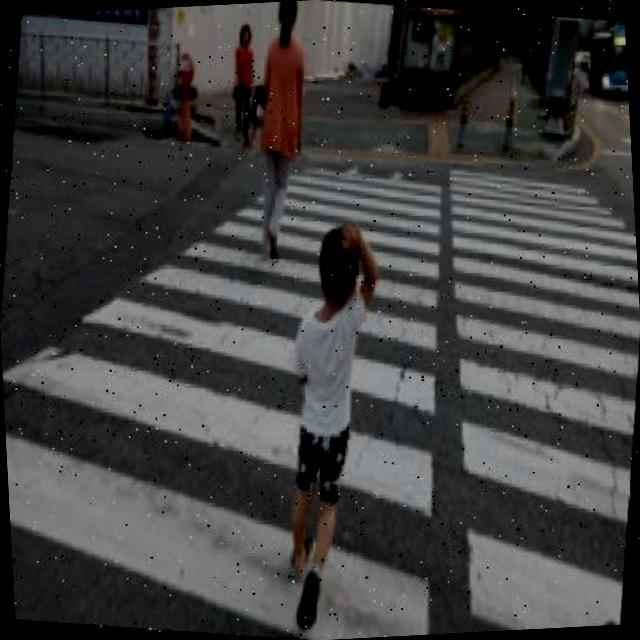Person: (261, 214, 398, 636), (234, 0, 326, 262), (220, 19, 266, 148)
